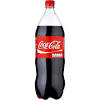coca_cola_bottle: (34, 1, 66, 98)
